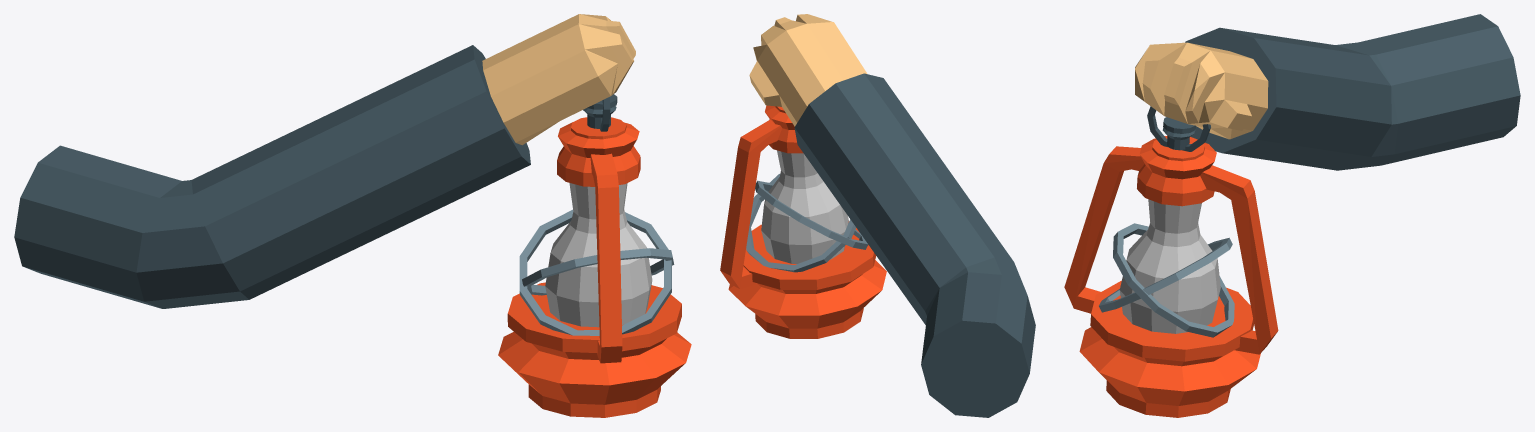
3 views of the same model, side by side, from view 1: azimuth 30°, elevation 25°; view 2: azimuth 150°, elevation 25°; view 3: azimuth 270°, elevation 25° (orthographic). The views are drawn at different scales.
Parts seen in each view (by area): view 1: group_672144813, group_1999218445, group_1297768160; view 2: group_672144813, group_1999218445, group_1297768160; view 3: group_1999218445, group_672144813, group_1297768160.
Boxes of the visible parts, left/top/right/bottom form: group_672144813: left=14, top=45, right=530, bottom=308; group_1999218445: left=498, top=94, right=691, bottom=417; group_1297768160: left=482, top=14, right=635, bottom=145; group_672144813: left=794, top=73, right=1035, bottom=417; group_1999218445: left=720, top=105, right=886, bottom=338; group_1297768160: left=749, top=14, right=867, bottom=126; group_1999218445: left=1064, top=106, right=1278, bottom=417; group_672144813: left=1185, top=14, right=1520, bottom=170; group_1297768160: left=1135, top=42, right=1268, bottom=139.
Bounding box in the file's own units: 122 × 84.19 × 100.
